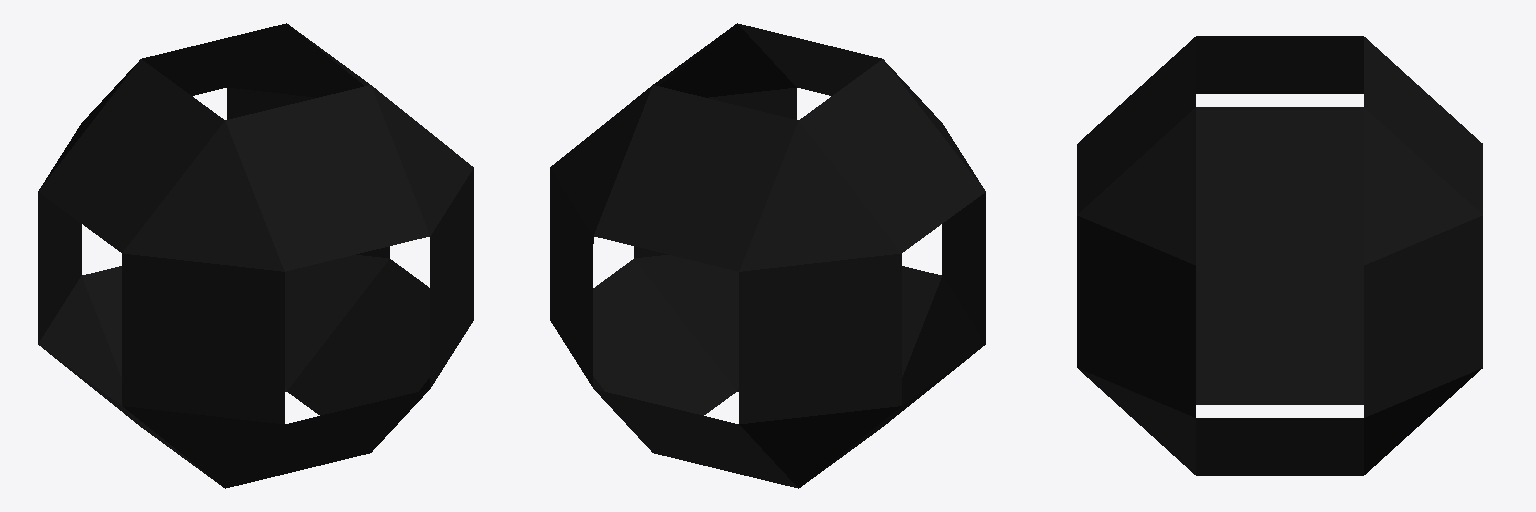
Rendered from okteenModule.obj.
3 renders of one model, left to right at view 1: azimuth 30°, elevation 25°; view 2: azimuth 150°, elevation 25°; view 3: azimuth 270°, elevation 25°, orthographic.
Visible parts, largest first — view 1: okteen_main; view 2: okteen_main; view 3: okteen_main.
Part boxes in pixels (bbox=[...]): okteen_main: bbox=[38, 23, 473, 488]; okteen_main: bbox=[550, 23, 985, 488]; okteen_main: bbox=[1077, 36, 1482, 475].
Bounding box in the file's own units: 7.08 × 7.07 × 7.08.